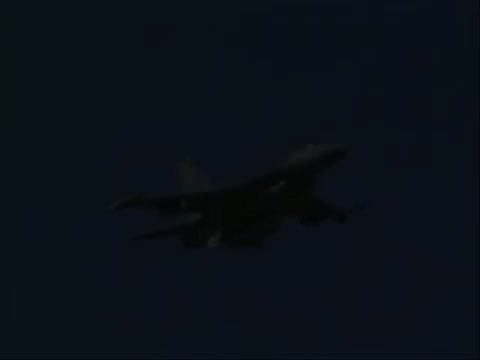aeroplane: (111, 136, 357, 254)
